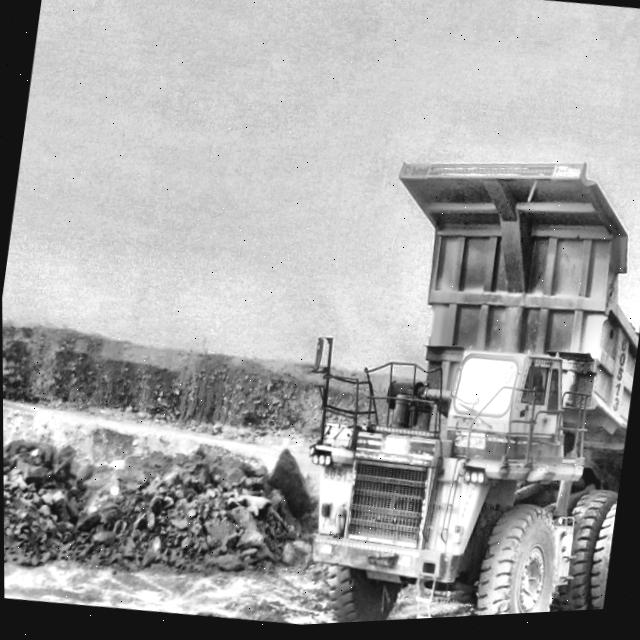dump_truck: (314, 168, 638, 626)
